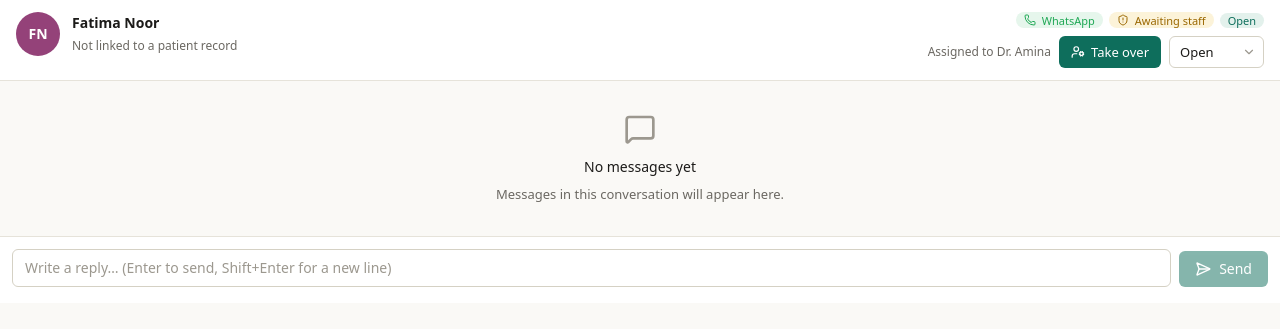
it: ConversationView › surfaces a useful error, without mutating the visible status, when the backend rejects a transition
Select "Resolved" in the dropdown named "Conversation status". click: coordinates (1216, 52)
box: left=1169, top=36, right=1264, bottom=68
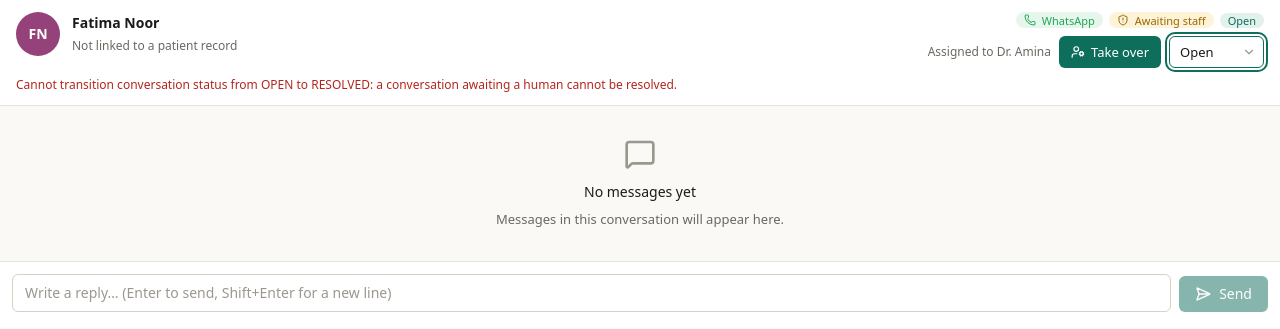
Now the message shows "Cannot transition", box left=16, top=76, right=677, bottom=93
